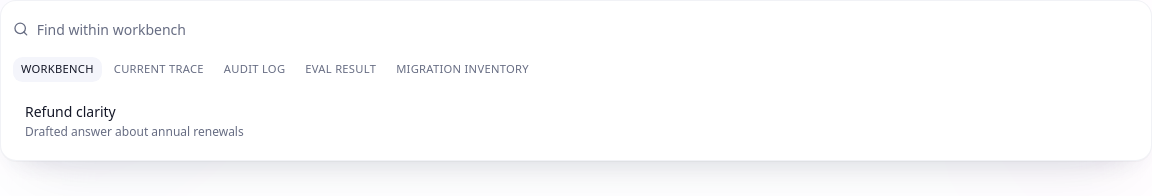
ContextualFind › filters by scope and query
This screenshot has width=1152, height=196.
Expected: the button with test id "find-result-wb_refund" is shown, left=13, top=94, right=1139, bottom=148
What coordinates should you click on to do the following:
click the tab with test id "find-scope-trace"
I would click on:
 (159, 69)
Its box is left=106, top=57, right=212, bottom=82.
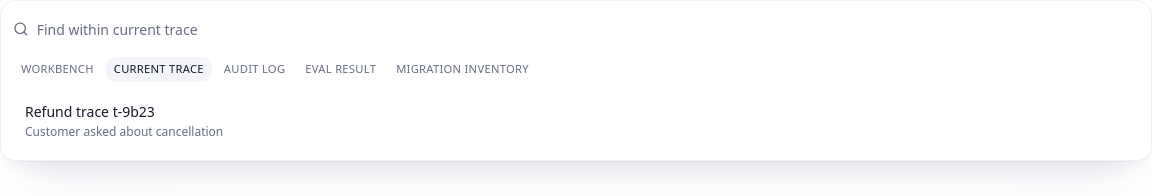
Expected: the button with test id "find-result-wb_refund" is gone
Expected: the button with test id "find-result-tr_refund" is shown, left=13, top=94, right=1139, bottom=148
